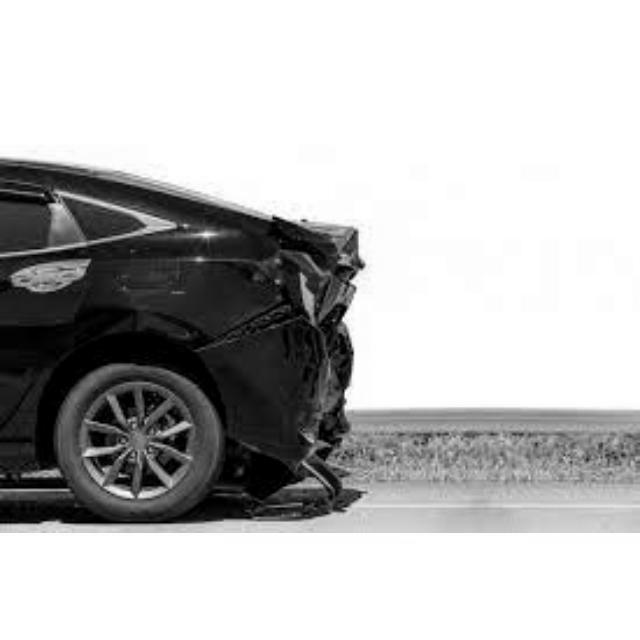Taillight-Damage: (281, 250, 337, 323)
boot-dent: (277, 207, 361, 320)
rear-bumper-dent: (298, 344, 346, 499)
